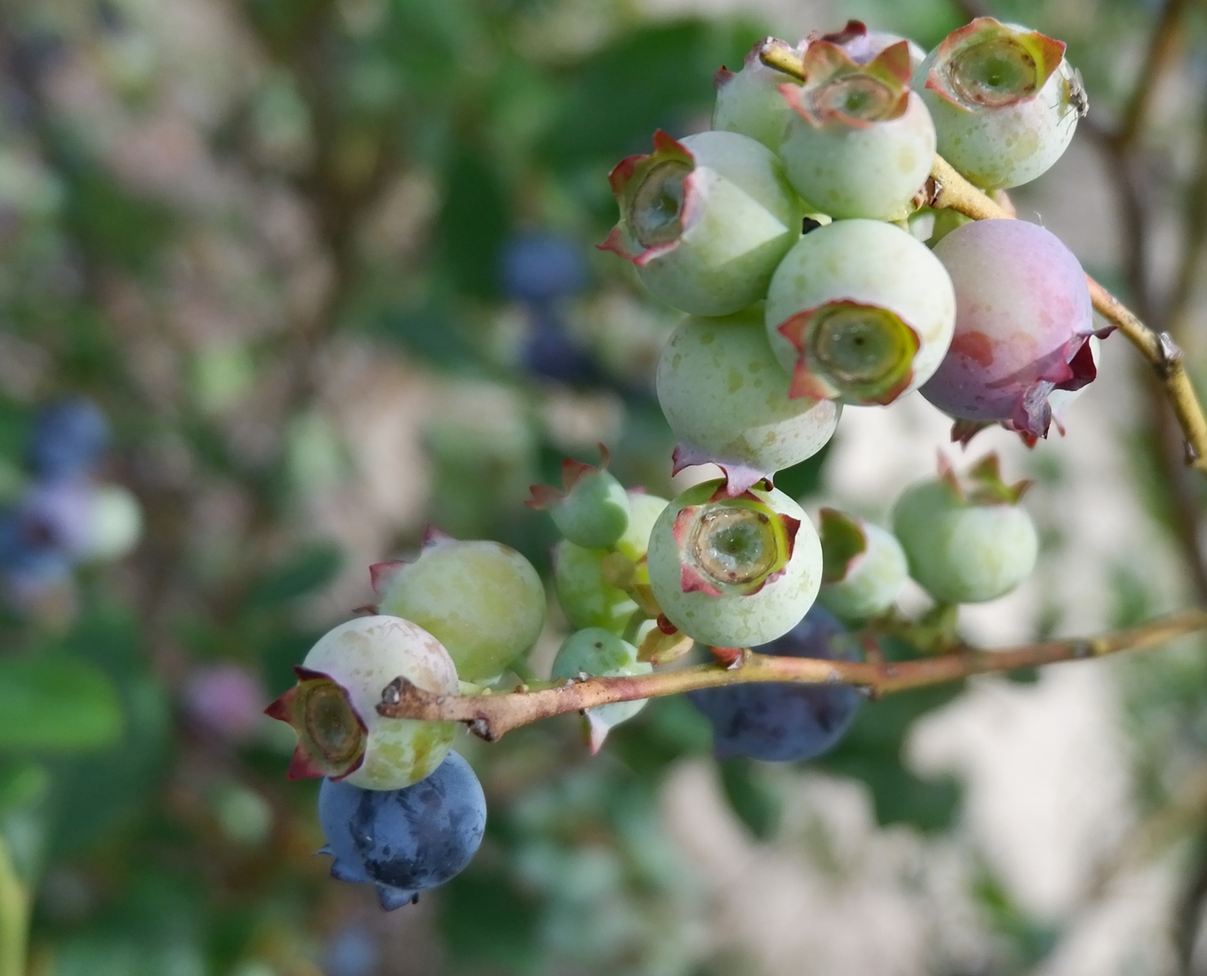Immature: (918, 220, 1096, 439), (598, 132, 800, 308), (659, 304, 837, 489), (771, 224, 954, 399), (270, 619, 459, 786), (651, 485, 820, 647), (784, 40, 934, 213), (377, 529, 541, 682), (924, 30, 1074, 184), (895, 459, 1036, 600), (552, 491, 669, 645), (556, 630, 653, 759), (820, 511, 905, 622), (531, 463, 628, 548), (715, 58, 795, 152), (815, 18, 928, 75)
Mature: (321, 756, 483, 910), (701, 607, 857, 761)
